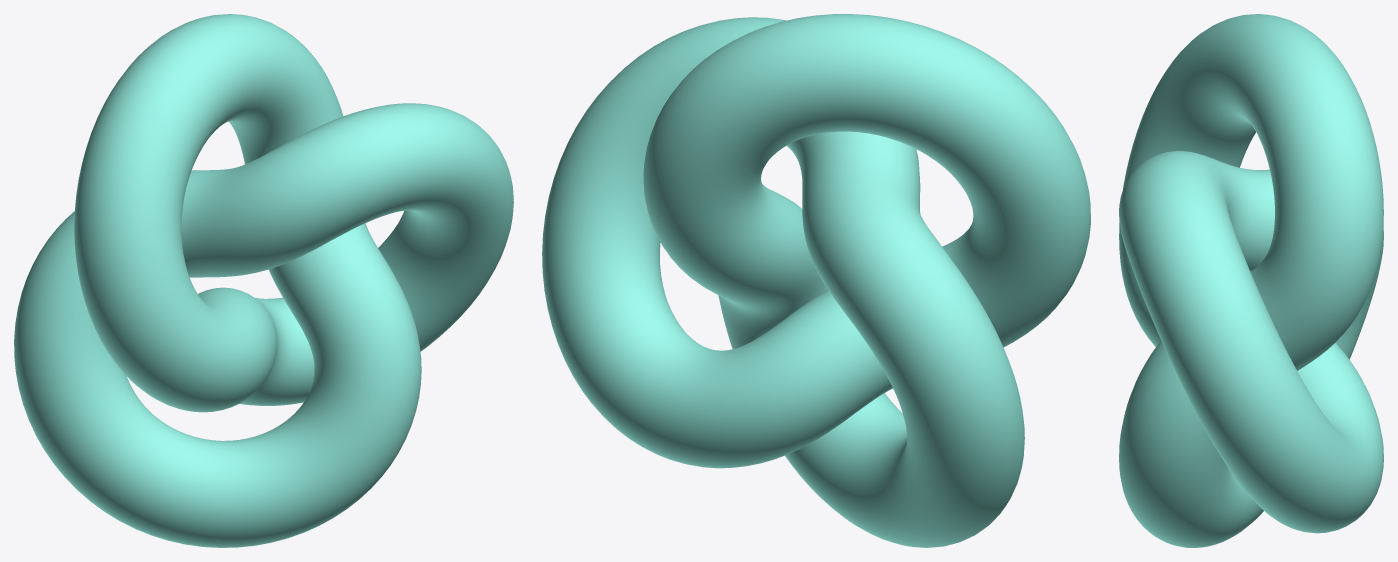
The model's file is aurora-knot.glb.
3 renders of one model, left to right at view 1: azimuth 30°, elevation 25°; view 2: azimuth 150°, elevation 25°; view 3: azimuth 270°, elevation 25°, orthographic. The views are drawn at different scales.
Visible parts, largest first — view 1: AuroraKnot; view 2: AuroraKnot; view 3: AuroraKnot.
Boxes of the visible parts, x1,y1,x2,y2 form: AuroraKnot: (14, 14, 513, 547); AuroraKnot: (542, 14, 1090, 547); AuroraKnot: (1119, 14, 1383, 547).
Bounding box in the file's own units: 0.4058 × 0.4231 × 0.2038.
